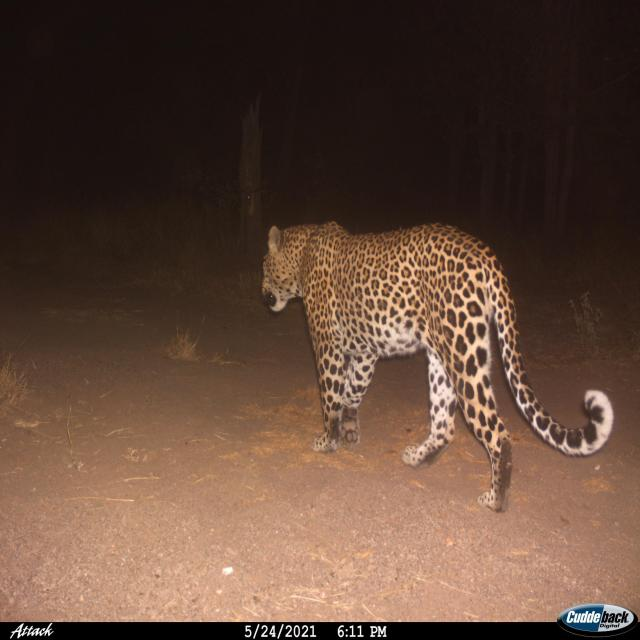Leopard: (263, 210, 609, 510)
